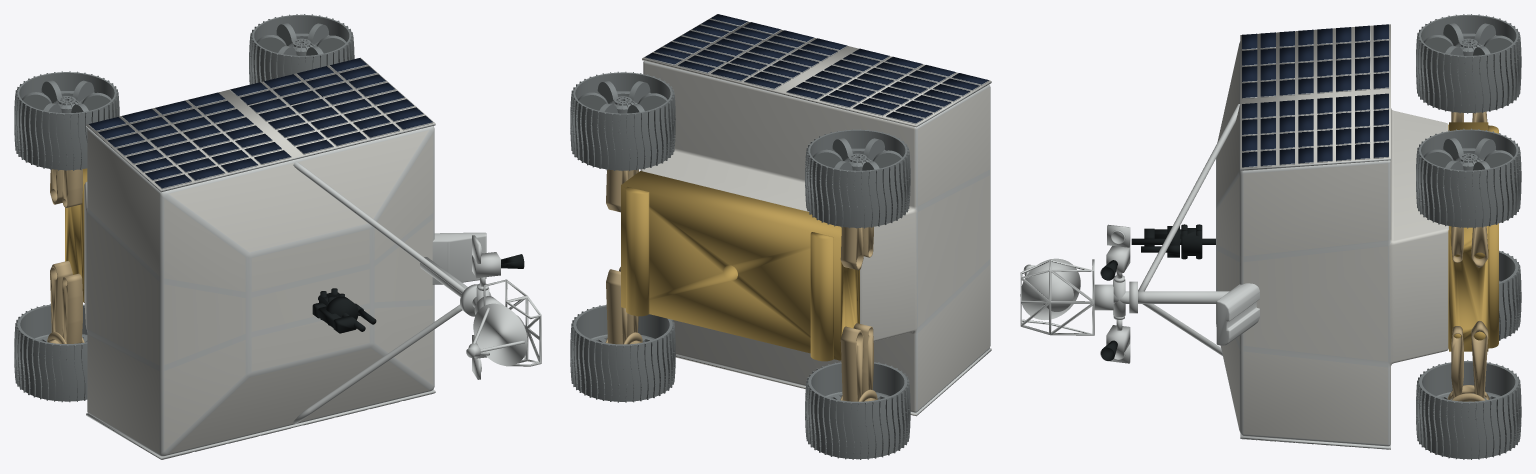
Rendered from viper.glb.
The picture shows the model from 3 angles, left to right: view 1: azimuth 30°, elevation 25°; view 2: azimuth 150°, elevation 25°; view 3: azimuth 270°, elevation 25°; orthographic projection.
Parts seen in each view (by area): view 1: viper_chassis, 1_sw (×3), viper_R_up_sus, viper_R_bt_sus, viper_L_up_sus; view 2: viper_chassis, 1_sw (×4), viper_R_bt_sus (×2), viper_L_bt_sus (×2), viper_R_up_sus; view 3: viper_chassis, 1_sw (×4), viper_R_bt_sus, viper_R_up_sus, viper_L_bt_sus.
Boxes of the visible parts, box(x1,y1,x2,y2) form: viper_chassis: box(65, 57, 541, 459); 1_sw (×3): box(14, 14, 354, 402); viper_R_up_sus: box(62, 273, 82, 343); viper_R_bt_sus: box(50, 261, 72, 336); viper_L_up_sus: box(62, 169, 82, 207); viper_chassis: box(621, 14, 991, 416); 1_sw (×4): box(570, 71, 910, 459); viper_R_bt_sus (×2): box(606, 269, 863, 401); viper_L_bt_sus (×2): box(606, 169, 863, 270); viper_R_up_sus: box(853, 323, 873, 394); viper_chassis: box(1020, 24, 1498, 449); 1_sw (×4): box(1416, 14, 1521, 459); viper_R_bt_sus: box(1471, 321, 1488, 398); viper_R_up_sus: box(1451, 326, 1463, 397); viper_L_bt_sus: box(1471, 226, 1488, 267).
Size of the model in its own units: 1.89 by 1.53 by 2.37.
